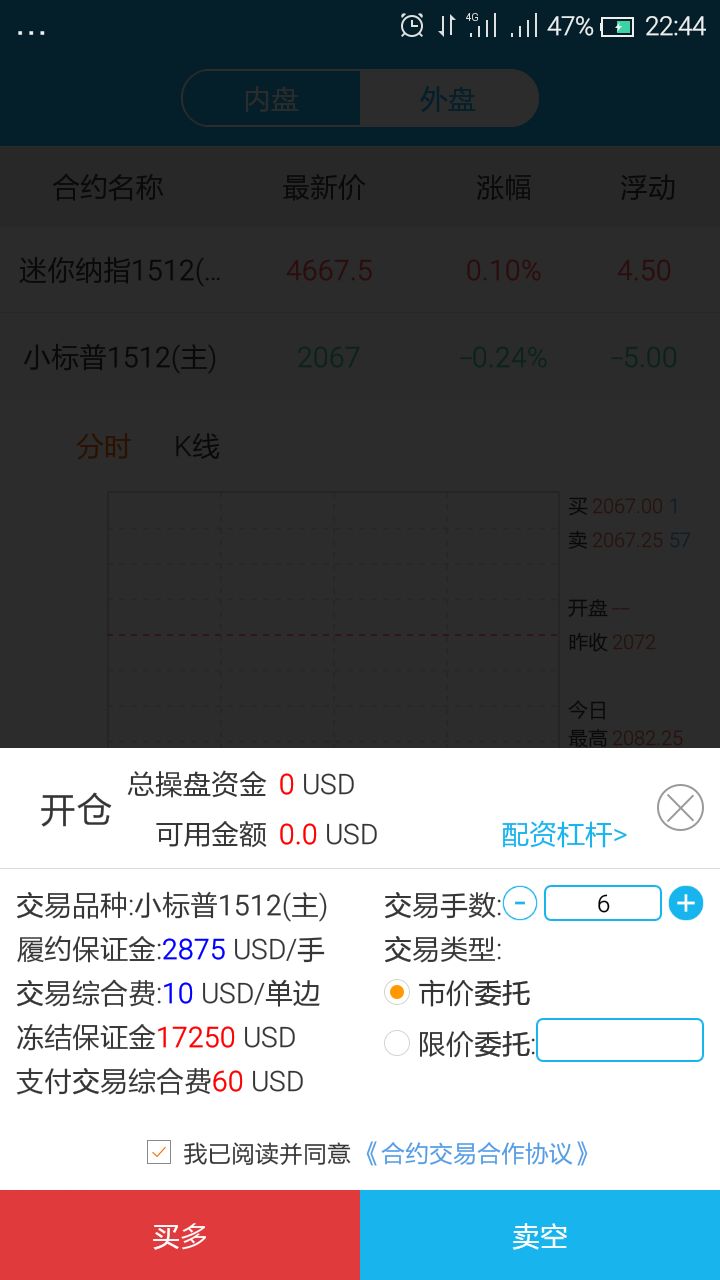button: (375, 1185, 720, 1276), (4, 1192, 351, 1280)
checkbox: (133, 1130, 189, 1174)
imgbutton: (644, 774, 708, 841), (497, 880, 542, 926), (664, 880, 708, 923)
radiobutton: (374, 981, 418, 1012)
textview: (8, 888, 350, 1095)
